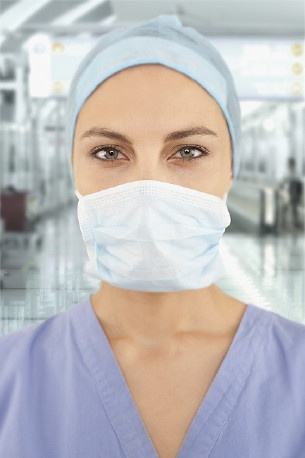Mask: (71, 106, 260, 295)
